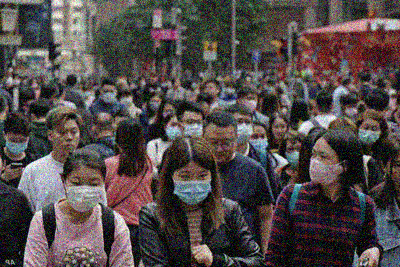with_mask: (63, 174, 103, 215), (170, 167, 211, 206), (308, 148, 341, 189), (231, 117, 254, 146), (180, 118, 204, 143), (4, 135, 28, 158), (358, 124, 380, 148), (284, 143, 302, 170), (248, 132, 269, 153), (241, 95, 259, 113), (164, 121, 180, 140), (100, 89, 117, 103), (344, 103, 358, 118), (118, 93, 132, 106), (148, 98, 160, 113), (162, 107, 174, 122), (11, 76, 20, 88), (29, 79, 38, 90), (225, 85, 234, 95), (20, 76, 28, 86), (294, 76, 302, 84), (139, 79, 146, 88), (83, 89, 90, 98), (190, 80, 196, 90)
without_mask: (50, 125, 81, 156), (205, 134, 236, 165), (272, 122, 288, 142), (204, 84, 217, 98)
